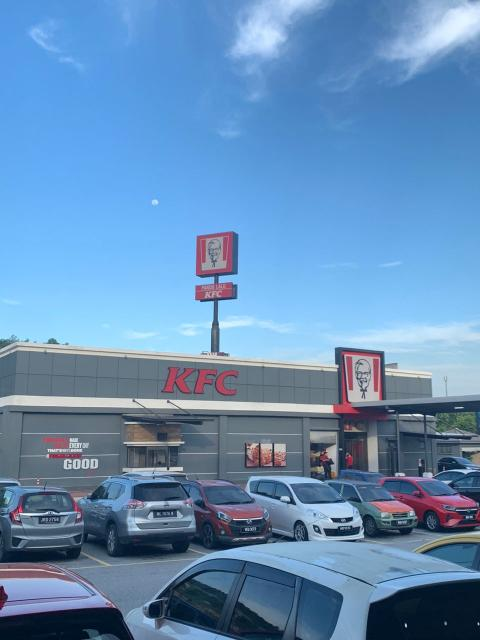License_Plate: (152, 508, 179, 521), (238, 523, 264, 536), (392, 517, 417, 530), (333, 524, 362, 534), (38, 514, 61, 526)
